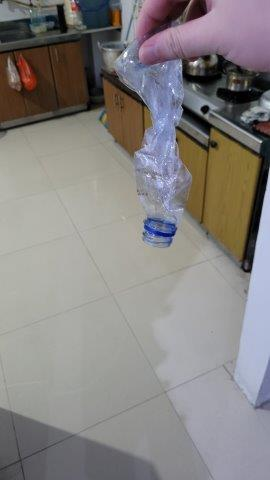botolplastik: (110, 29, 193, 248)
